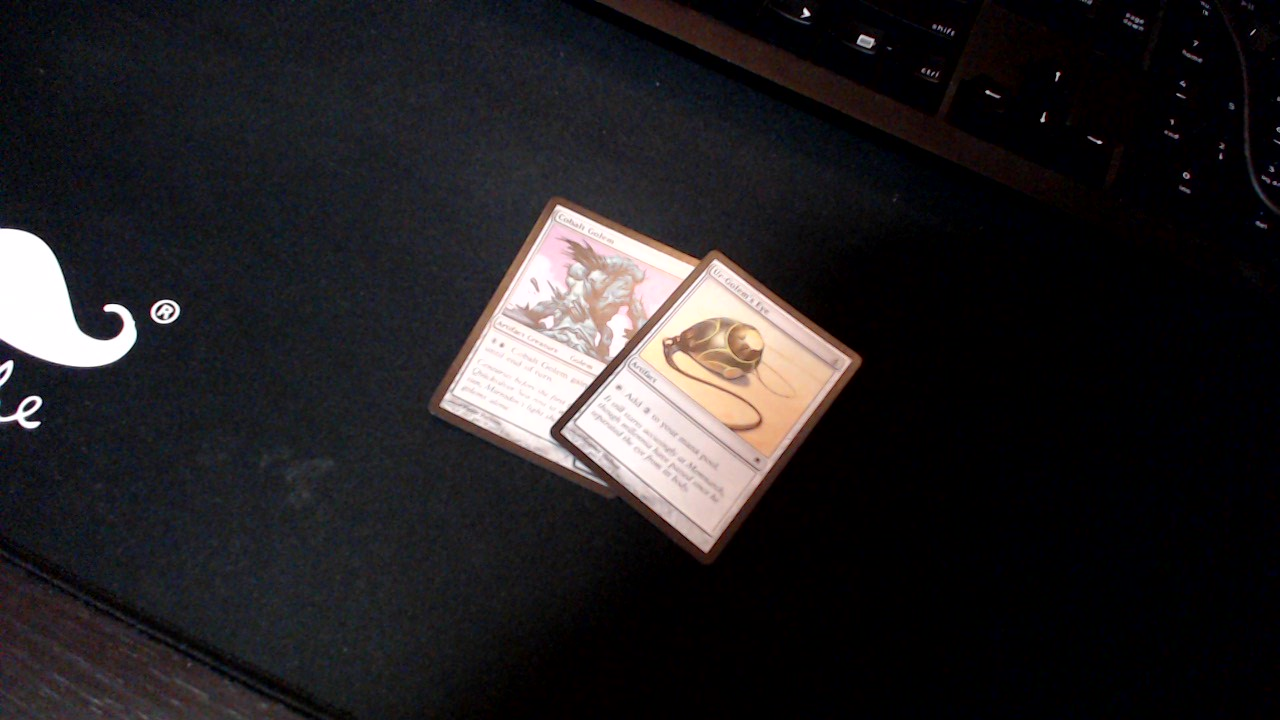MTG Card: (545, 245, 876, 571), (423, 184, 734, 503)
